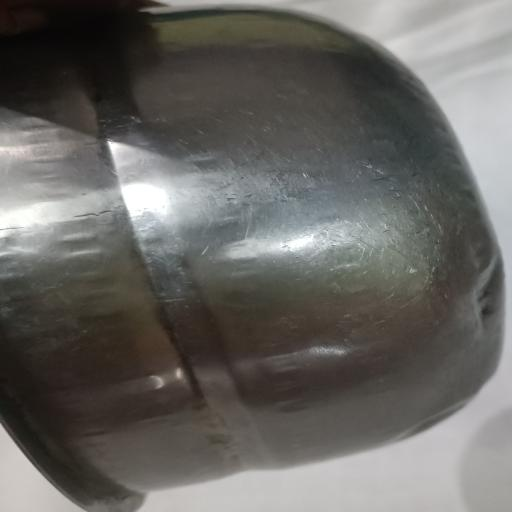vessel: (0, 7, 504, 512)
